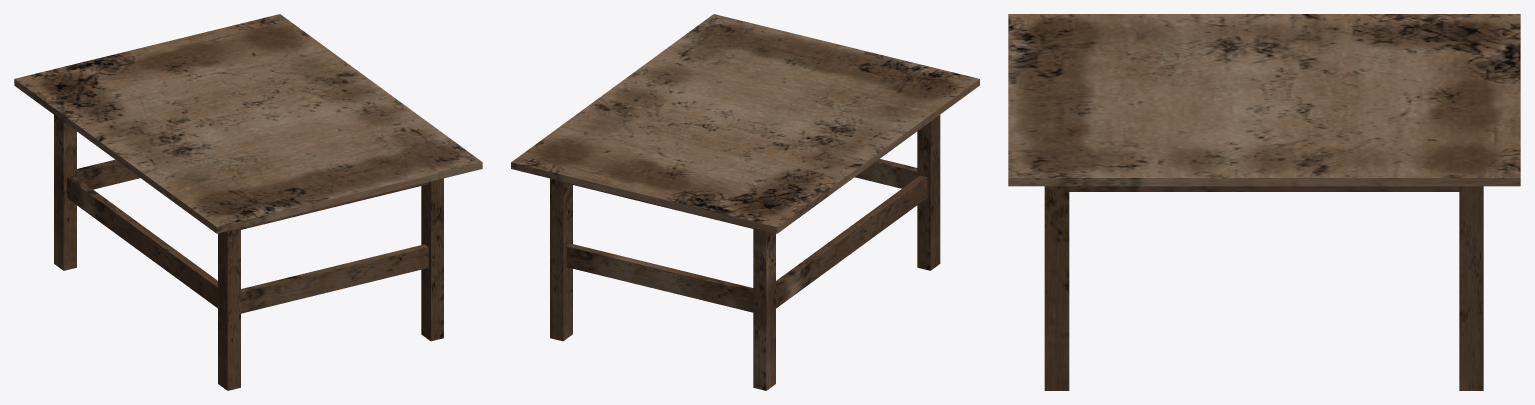
File: table.glb
The picture shows the model from 3 angles, left to right: view 1: azimuth 30°, elevation 25°; view 2: azimuth 150°, elevation 25°; view 3: azimuth 270°, elevation 25°; orthographic projection. The views are drawn at different scales.
Visible parts, largest first — view 1: TableBase, TableStructure; view 2: TableBase, TableStructure; view 3: TableBase, TableStructure.
Boxes of the visible parts, box(x1,y1,x2,y2) form: TableBase: box(14, 14, 482, 233); TableStructure: box(54, 115, 443, 390); TableBase: box(511, 14, 979, 233); TableStructure: box(550, 115, 940, 390); TableBase: box(1008, 14, 1520, 186); TableStructure: box(1044, 186, 1483, 390).
Bounding box in the file's own units: 7.9 × 5.12 × 10.42.
1 material, 1 textured.
